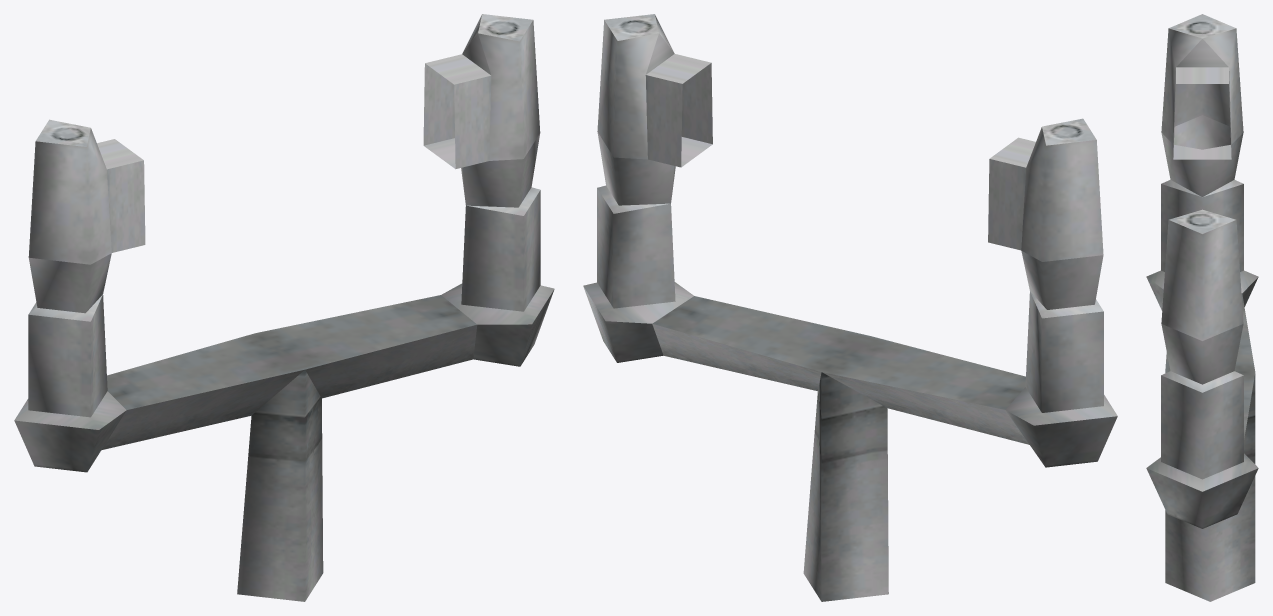
Rendered from ykl37r_turret_base_l1.fbx.
The picture shows the model from 3 angles, left to right: view 1: azimuth 30°, elevation 25°; view 2: azimuth 150°, elevation 25°; view 3: azimuth 270°, elevation 25°; orthographic projection. The views are drawn at different scales.
Parts seen in each view (by area): view 1: mesh_node; view 2: mesh_node; view 3: mesh_node.
Part boxes in pixels (x1,y1,x2,y2): mesh_node: (14, 14, 554, 601); mesh_node: (583, 14, 1117, 601); mesh_node: (1146, 14, 1258, 601).
Size of the model in its own units: 1.73 by 1.55 by 0.3448.
1 material, 1 textured.
